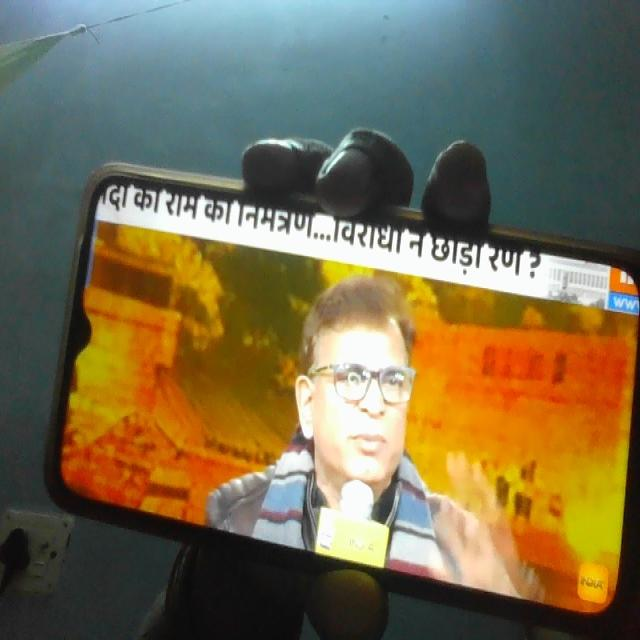fake: (290, 258, 425, 514)
